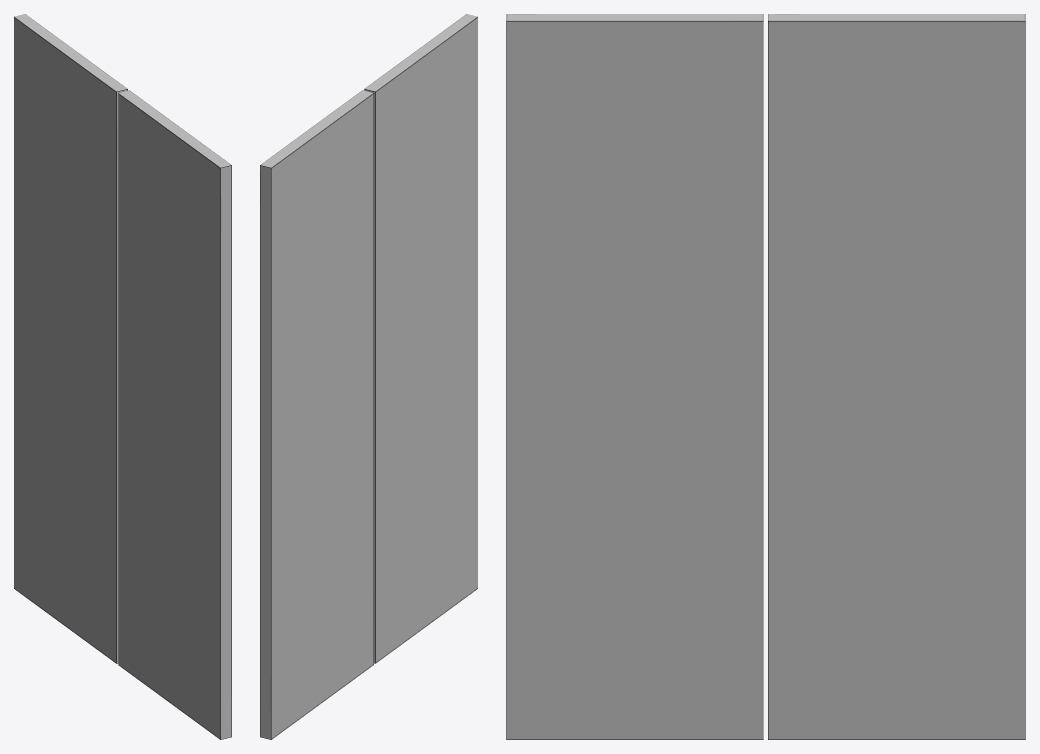
File: MazeGame-Door.glb
3 renders of one model, left to right at view 1: azimuth 30°, elevation 25°; view 2: azimuth 150°, elevation 25°; view 3: azimuth 270°, elevation 25°, orthographic. The views are drawn at different scales.
Parts seen in each view (by area): view 1: DoorRight, DoorLeft; view 2: DoorLeft, DoorRight; view 3: DoorRight, DoorLeft.
Boxes of the visible parts, x1,y1,x2,y2 form: DoorRight: [118, 90, 231, 739]; DoorLeft: [14, 14, 127, 663]; DoorLeft: [260, 90, 373, 739]; DoorRight: [364, 14, 477, 663]; DoorRight: [506, 14, 763, 739]; DoorLeft: [768, 14, 1025, 739].
Size of what is drawn, in the model's own units: 0.125 by 6 by 3.93.
1 material, 1 textured.
